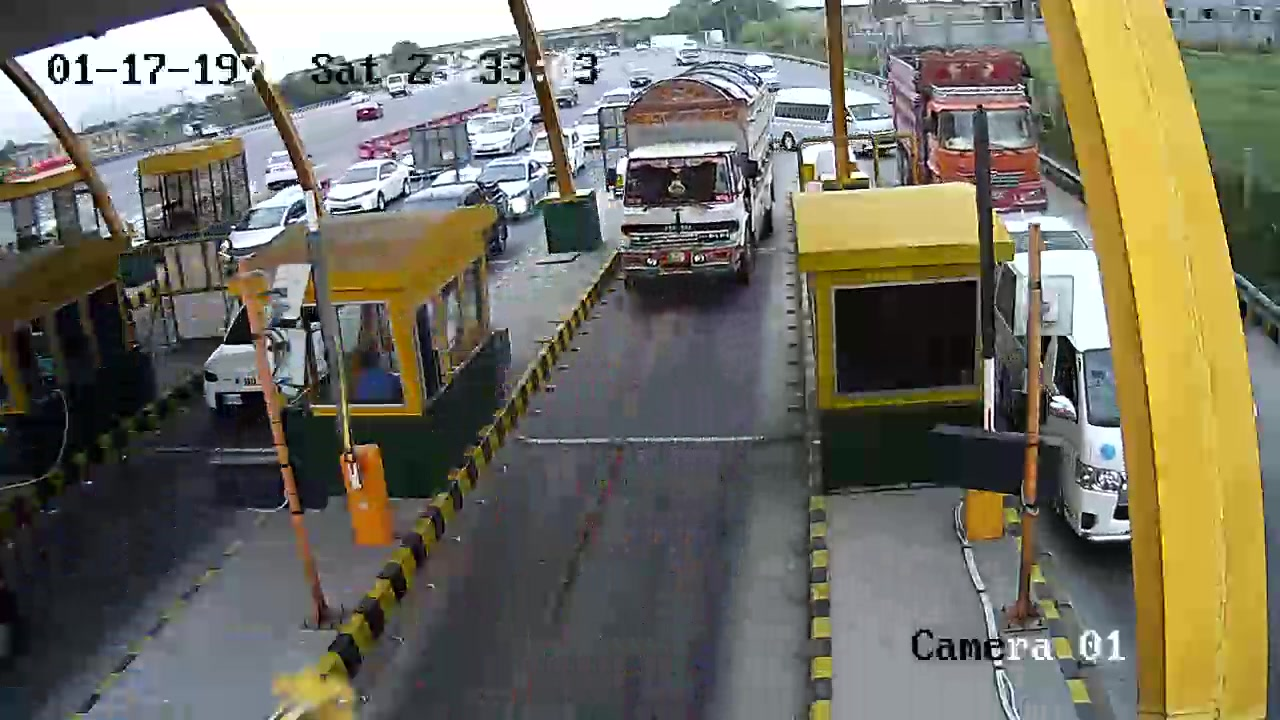F5: (601, 62, 777, 303)
